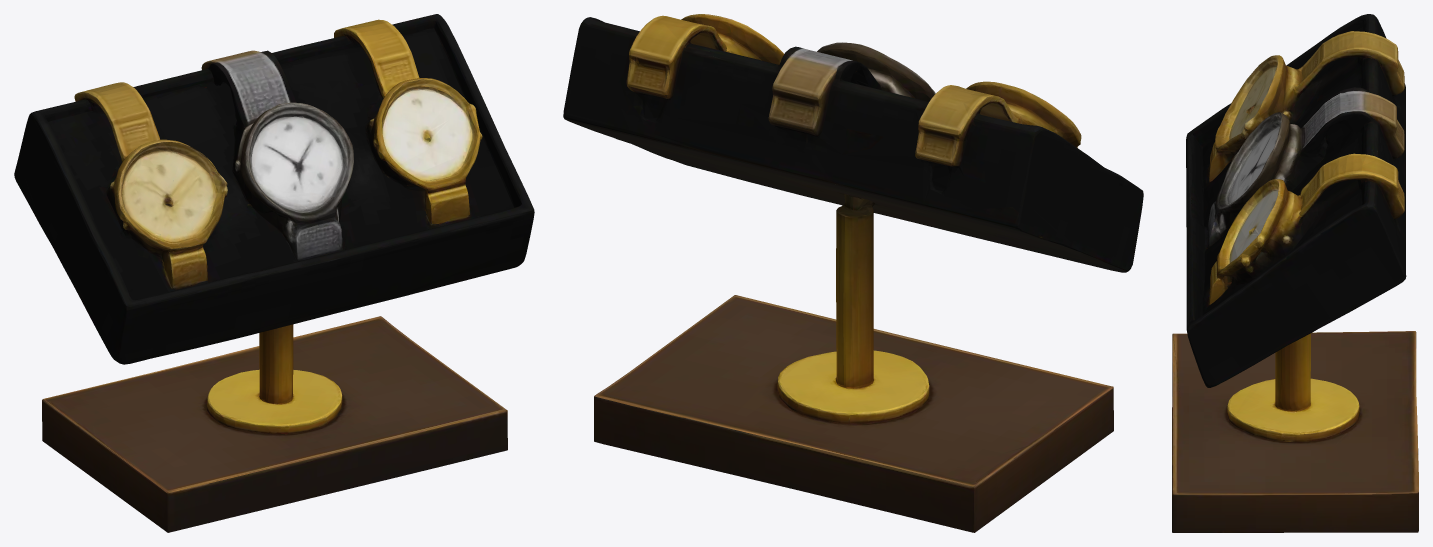
File: stand_watch_2.glb
3 views of the same model, side by side, from view 1: azimuth 30°, elevation 25°; view 2: azimuth 150°, elevation 25°; view 3: azimuth 270°, elevation 25° (orthographic). The views are drawn at different scales.
Parts seen in each view (by area): view 1: geometry_0; view 2: geometry_0; view 3: geometry_0.
Part boxes in pixels (<box>): geometry_0: <box>14,14,534,532</box>; geometry_0: <box>563,14,1143,532</box>; geometry_0: <box>1172,14,1418,532</box>.
Bounding box in the file's own units: 1 × 0.8487 × 0.5386.
Materials: 1 (1 with a texture image).
